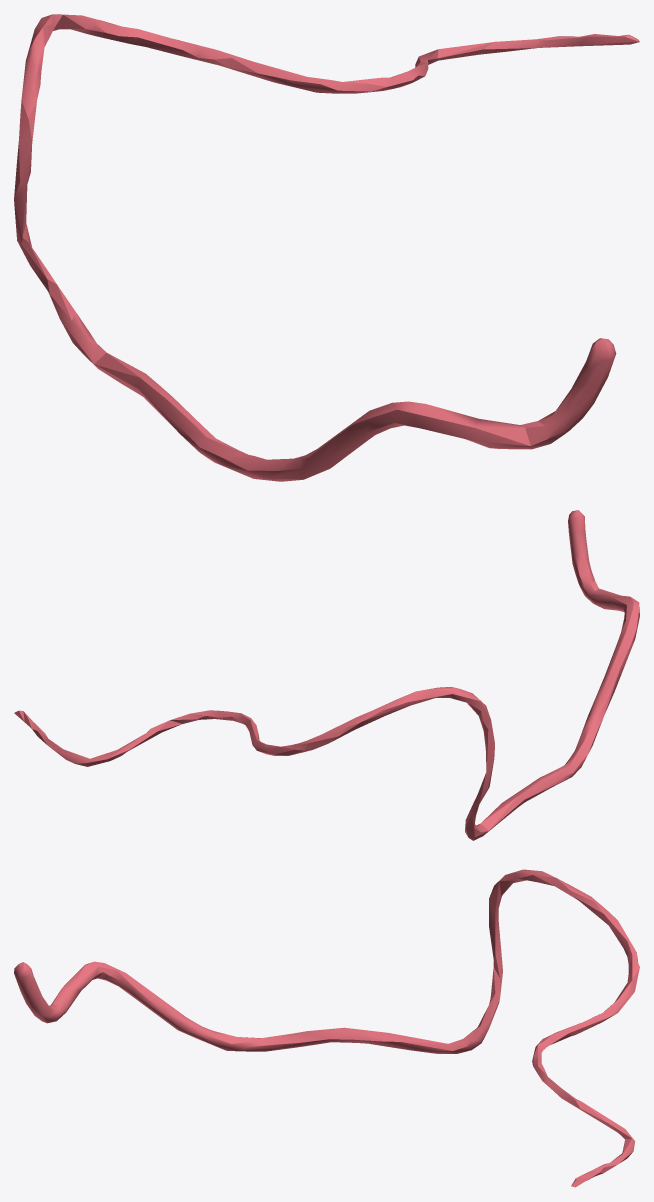
Rendered from fma50520_fj1711m.glb.
The picture shows the model from 3 angles, top to bottom: view 1: azimuth 30°, elevation 25°; view 2: azimuth 150°, elevation 25°; view 3: azimuth 270°, elevation 25°; orthographic projection. The views are drawn at different scales.
Visible parts, largest first — view 1: FMA50520_FJ1711M; view 2: FMA50520_FJ1711M; view 3: FMA50520_FJ1711M.
Part boxes in pixels (x1,y1,x2,y2): FMA50520_FJ1711M: (14, 14, 639, 481); FMA50520_FJ1711M: (14, 510, 639, 840); FMA50520_FJ1711M: (14, 869, 639, 1187).
Bounding box in the file's own units: 0.0276 × 0.0107 × 0.0332.
